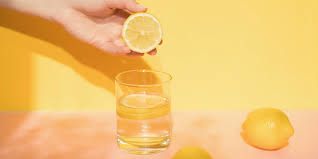lemon: (238, 102, 303, 158)
